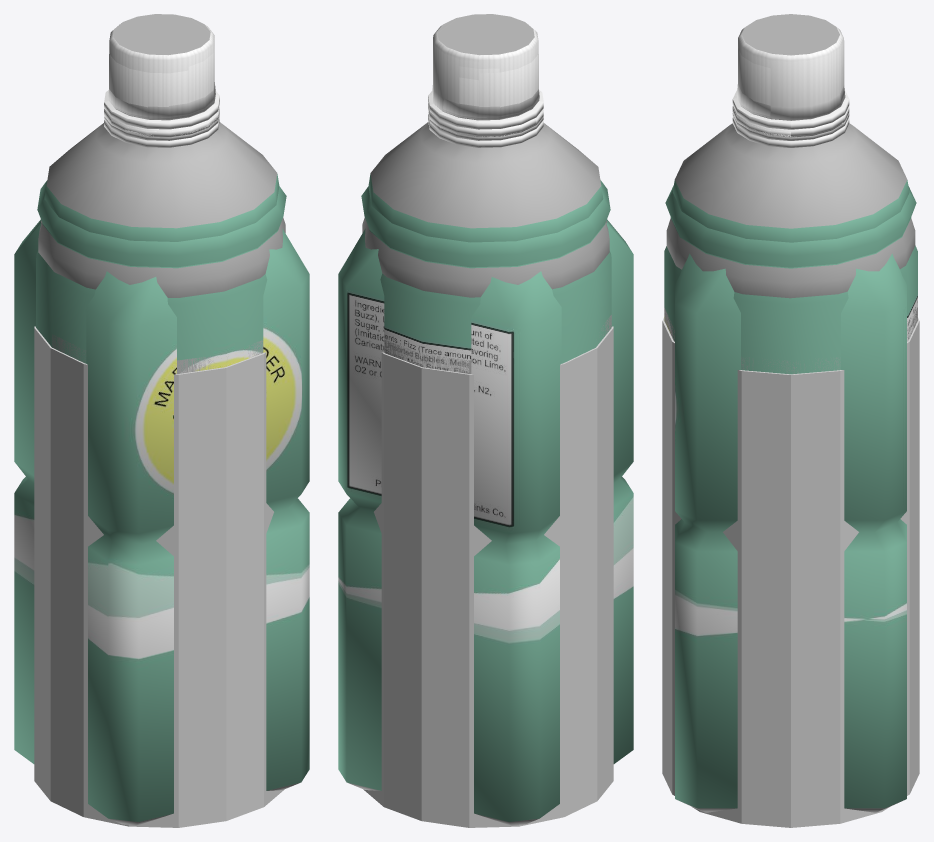
The model's file is drinks.glb.
3 views of the same model, side by side, from view 1: azimuth 30°, elevation 25°; view 2: azimuth 150°, elevation 25°; view 3: azimuth 270°, elevation 25° (orthographic).
Parts seen in each view (by area): view 1: Plastic Large 06, Metal Screw Small -cylinderShape, Plastic Large 01, Plastic Large 03, Plastic Large 02, Plastic Large 05, Plastic Large 06 Cap, Plastic Large 05 Cap, Plastic Large 04, Plastic Large 02 Cap; view 2: Plastic Large 06, Metal Screw Small -cylinderShape, Plastic Large 01, Plastic Large 03, Plastic Large 05, Plastic Large 02, Plastic Large 06 Cap, Plastic Large 05 Cap, Plastic Large 04, Plastic Large 01 Cap; view 3: Plastic Large 06, Metal Screw Small -cylinderShape, Plastic Large 01, Plastic Large 03, Plastic Large 05, Plastic Large 02, Plastic Large 01 Cap, Plastic Large 06 Cap, Plastic Large 02 Cap, Plastic Large 04.
Boxes of the visible parts, box(x1,y1,x2,y2) form: Plastic Large 06: box(14, 90, 309, 825); Metal Screw Small -cylinderShape: box(34, 326, 284, 827); Plastic Large 01: box(44, 102, 279, 241); Plastic Large 03: box(36, 115, 267, 373); Plastic Large 02: box(38, 106, 285, 297); Plastic Large 05: box(37, 112, 286, 267); Plastic Large 06 Cap: box(108, 14, 215, 117); Plastic Large 05 Cap: box(109, 54, 188, 119); Plastic Large 04: box(52, 104, 263, 373); Plastic Large 02 Cap: box(148, 46, 214, 120); Plastic Large 06: box(338, 90, 633, 825); Metal Screw Small -cylinderShape: box(363, 326, 613, 827); Plastic Large 01: box(368, 96, 603, 242); Plastic Large 03: box(380, 114, 611, 373); Plastic Large 05: box(361, 112, 610, 267); Plastic Large 02: box(362, 111, 609, 297); Plastic Large 06 Cap: box(433, 14, 539, 117); Plastic Large 05 Cap: box(479, 54, 538, 107); Plastic Large 04: box(384, 103, 611, 373); Plastic Large 01 Cap: box(432, 37, 539, 119); Plastic Large 06: box(675, 90, 906, 812); Metal Screw Small -cylinderShape: box(662, 317, 919, 827); Plastic Large 01: box(672, 100, 909, 242); Plastic Large 03: box(664, 117, 917, 374); Plastic Large 05: box(665, 113, 916, 267); Plastic Large 02: box(666, 107, 915, 298); Plastic Large 01 Cap: box(737, 40, 845, 120); Plastic Large 06 Cap: box(736, 14, 845, 116); Plastic Large 02 Cap: box(738, 48, 770, 118); Plastic Large 04: box(664, 106, 917, 373).
Size of what is drawn, in the model's own units: 0.1144 by 0.3627 by 0.1144.
2 materials, 2 textured.
